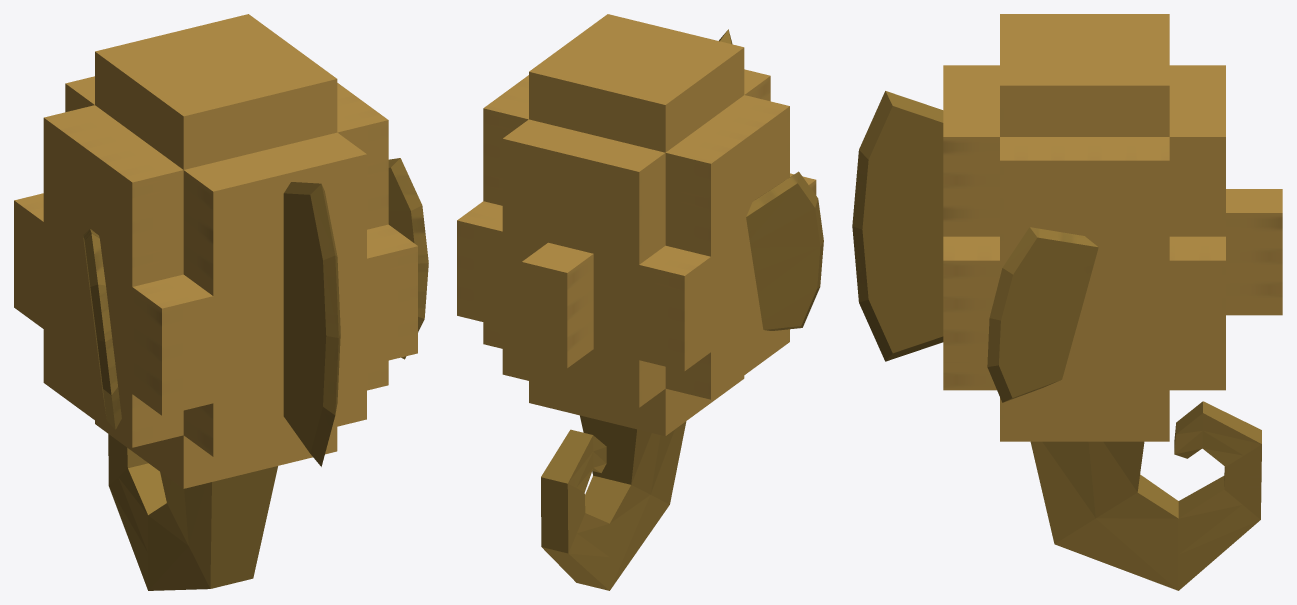
File: egg_z04_01.glb
The picture shows the model from 3 angles, left to right: view 1: azimuth 30°, elevation 25°; view 2: azimuth 150°, elevation 25°; view 3: azimuth 270°, elevation 25°; orthographic projection. The views are drawn at different scales.
Parts seen in each view (by area): view 1: model_031; view 2: model_031; view 3: model_031.
Part boxes in pixels (<box>): model_031: <box>14,14,428,590</box>; model_031: <box>457,14,823,590</box>; model_031: <box>852,14,1282,590</box>.
Size of the model in its own units: 2.47 by 4 by 2.93.
Materials: 2 (2 with a texture image).
